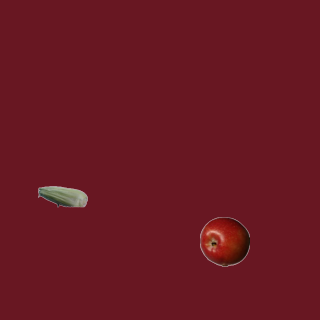Apple Braeburn: (199, 216, 249, 266)
Corn Husk: (37, 171, 87, 221)
